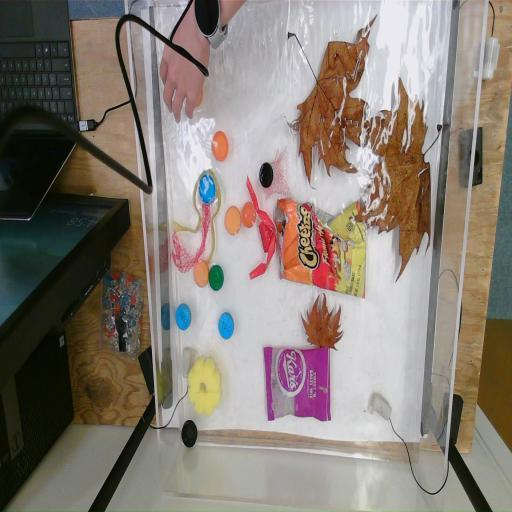Bottle Cap: (198, 172, 216, 204), (224, 206, 242, 236), (181, 419, 198, 448), (212, 130, 228, 160), (194, 260, 210, 288), (218, 312, 234, 340), (208, 264, 224, 291), (176, 303, 192, 330), (259, 162, 274, 188), (241, 202, 256, 228)
Cone Cap: (260, 217, 276, 256)
Leaf: (356, 80, 442, 280), (288, 22, 374, 185), (300, 294, 343, 359)
Netting: (169, 194, 211, 276), (265, 150, 291, 198)
Plastic Bag: (276, 195, 370, 302), (263, 344, 332, 426)
Plastic Strand: (174, 166, 222, 268), (245, 174, 277, 282)
Sponge: (188, 359, 224, 417)
